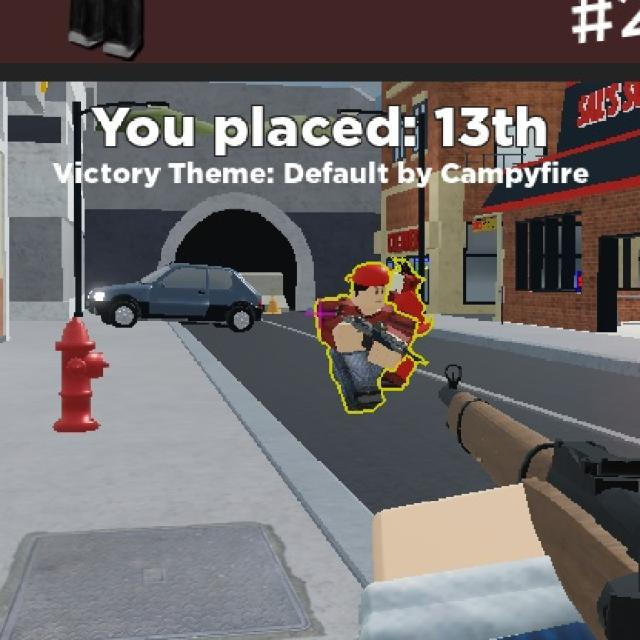player: (323, 262, 401, 414)
